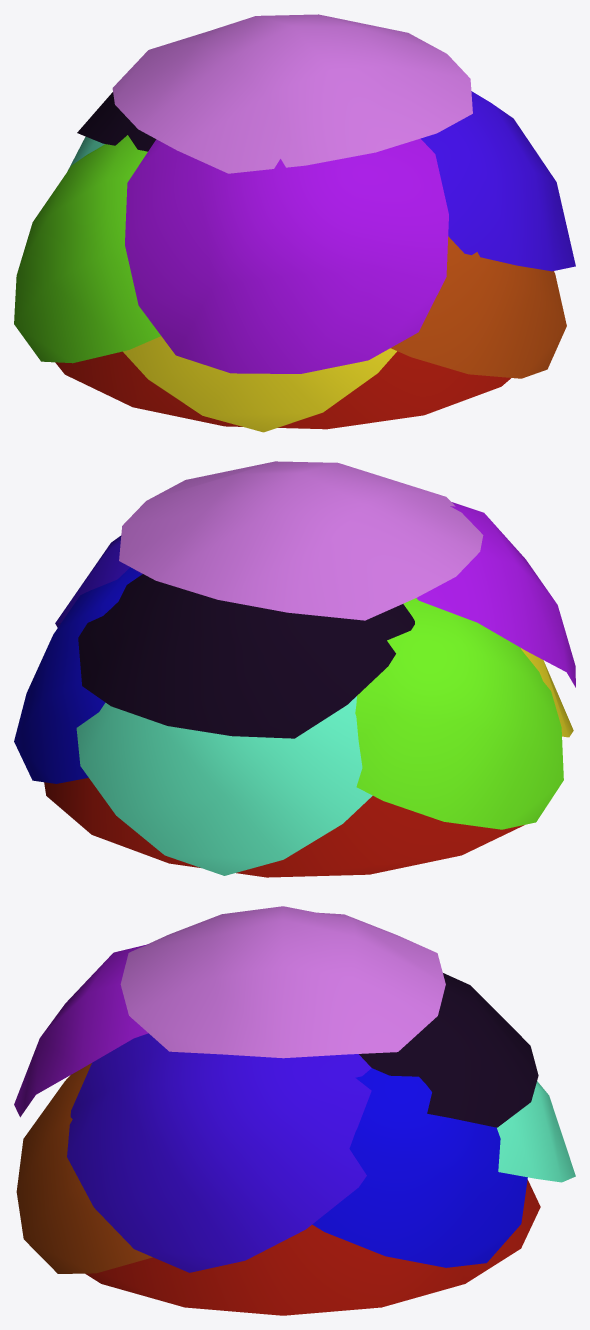
Rendered from Bush_Test.fbx.
3 views of the same model, one above another, from view 1: azimuth 30°, elevation 25°; view 2: azimuth 150°, elevation 25°; view 3: azimuth 270°, elevation 25° (orthographic). The views are drawn at different scales.
Visible parts, largest first — view 1: Leaf-Card_01; view 2: Leaf-Card_01; view 3: Leaf-Card_01.
Boxes of the visible parts, x1,y1,x2,y2 form: Leaf-Card_01: (14, 14, 575, 432); Leaf-Card_01: (14, 461, 575, 877); Leaf-Card_01: (14, 906, 575, 1315).
Bounding box in the file's own units: 1.06 × 0.6115 × 1.09.
